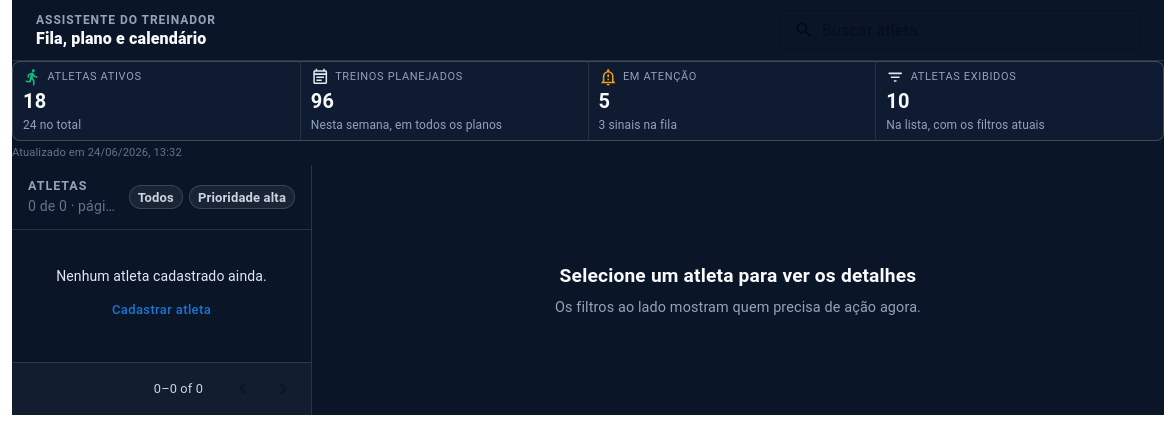
Test case: CoachInboxPage › estados da coluna (task 2.6) › vazio por filtro sugere limpar o filtro
The width and height of the screenshot is (1164, 435).
Click the button with aria-label "filtrar por status": (156, 197) [129,185,183,209]
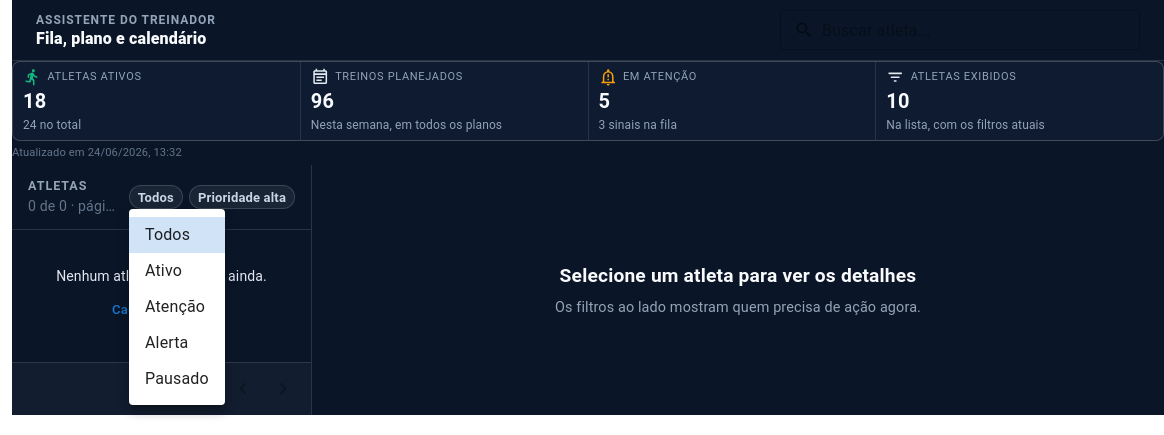
Click the menu item "Atenção": (175, 306) [145,297,205,316]
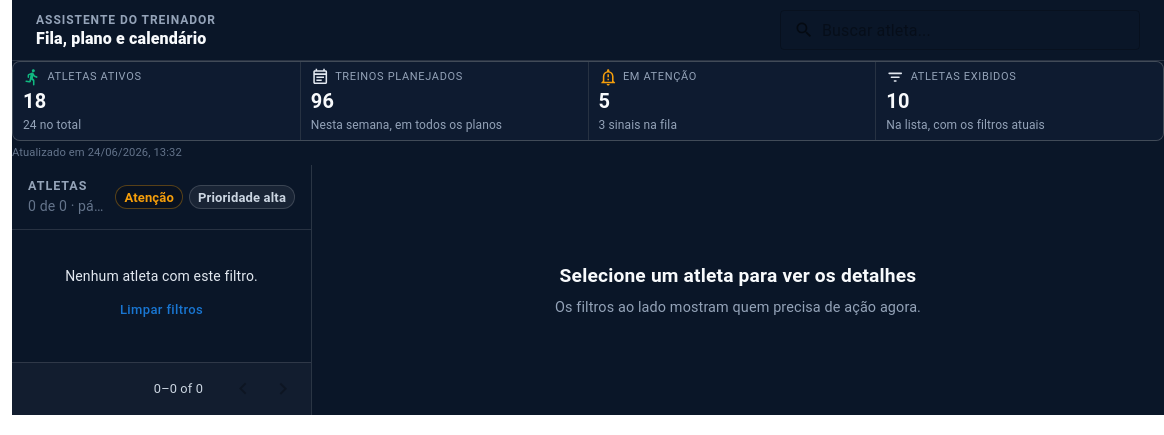
Check: the text "Nenhum atleta com este filtro." is shown, box [65,268,258,284]
